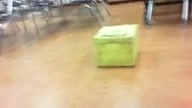cube: (93, 25, 140, 67)
